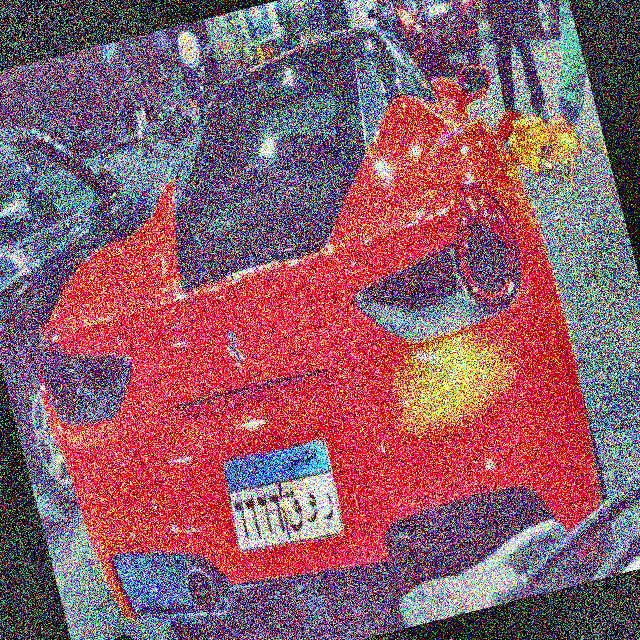License Plate: (211, 428, 353, 567)
